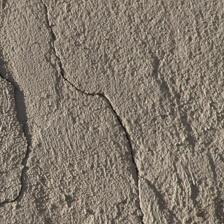Crack: (45, 14, 140, 183), (1, 77, 34, 210)
